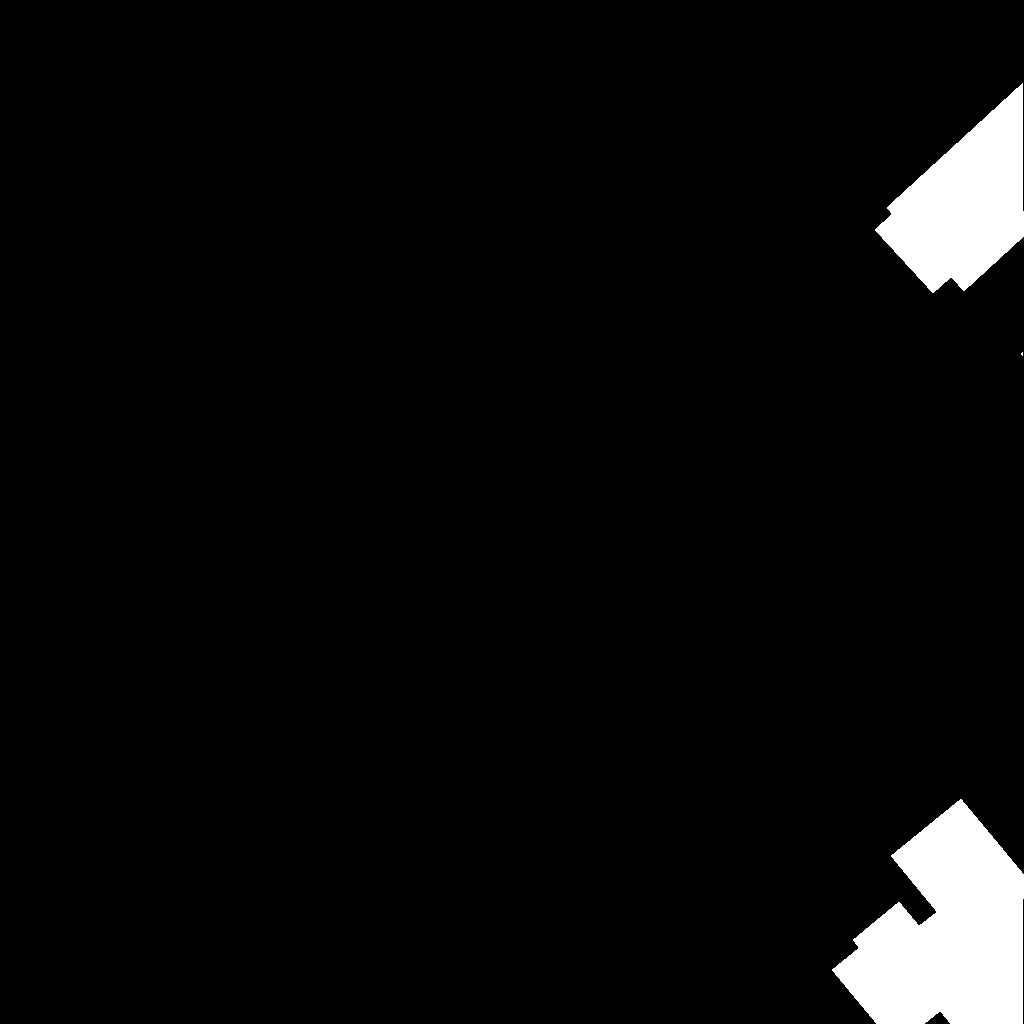building: (832, 799, 1024, 1024), (875, 83, 1024, 294), (1021, 352, 1024, 357)
